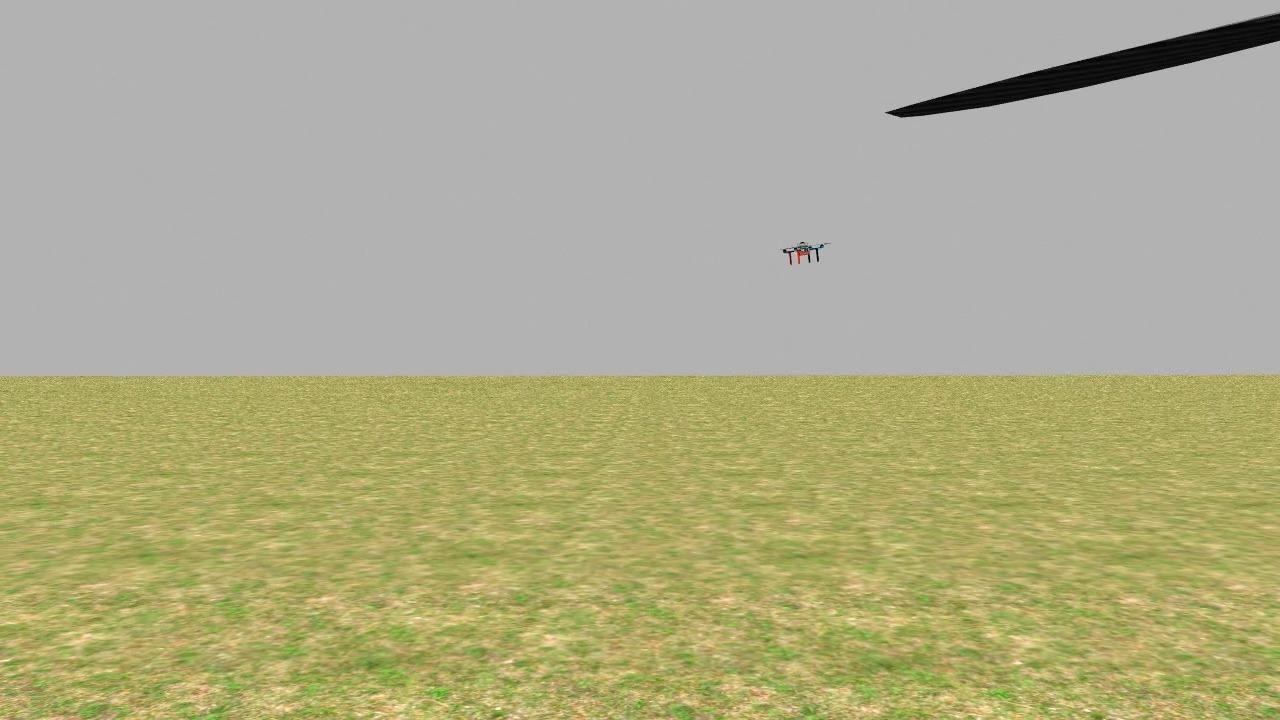UAV: (766, 224, 841, 274)
